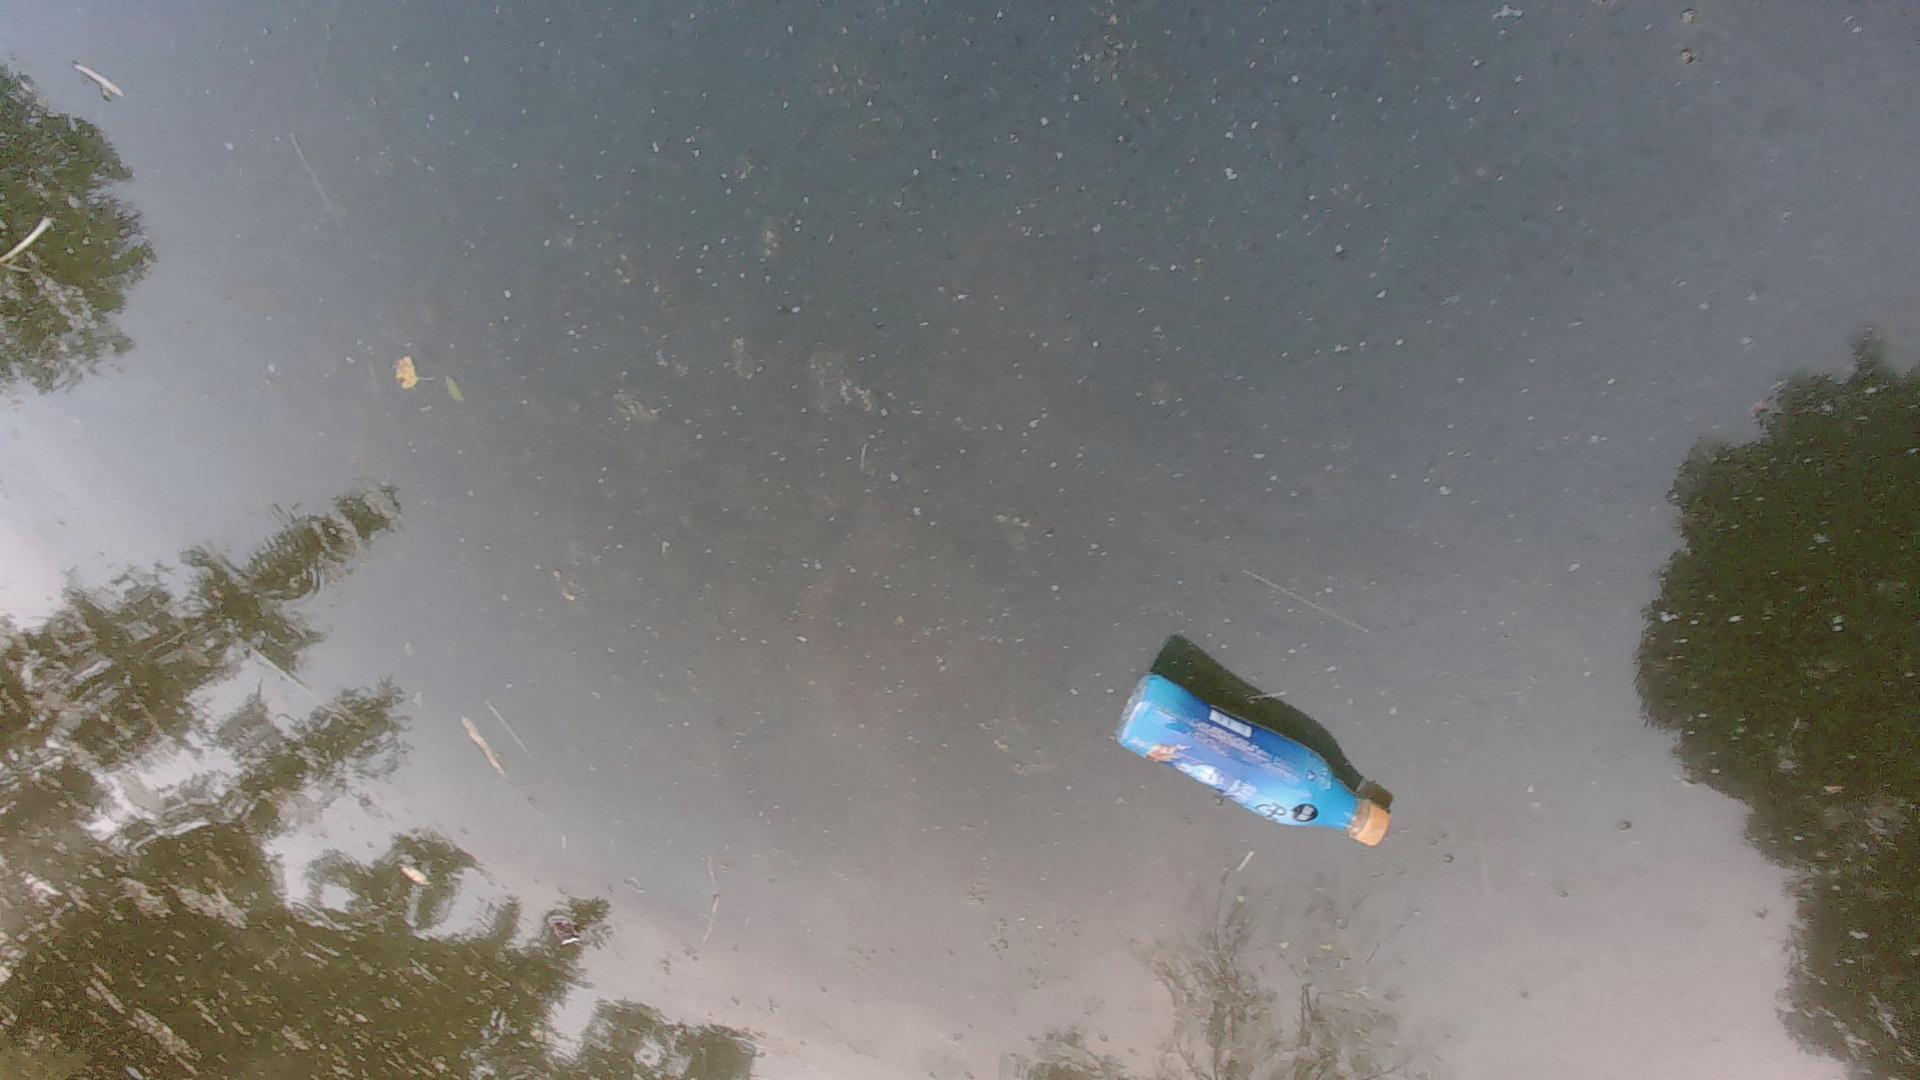Plastic: (1109, 669, 1398, 851)
